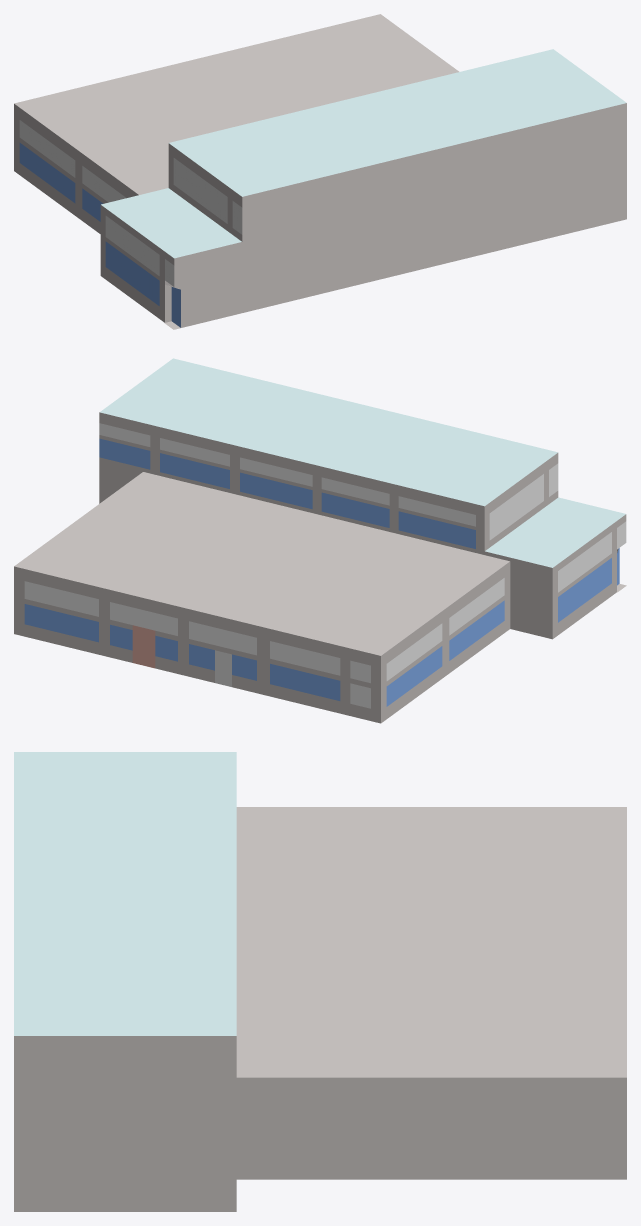
File: kentiku.glb
3 views of the same model, one above another, from view 1: azimuth 30°, elevation 25°; view 2: azimuth 150°, elevation 25°; view 3: azimuth 270°, elevation 25° (orthographic). The views are drawn at different scales.
Visible parts, largest first — view 1: 立方体.021, 立方体.003; view 2: 立方体.003, 立方体.021; view 3: 立方体.003, 立方体.021.
Part boxes in pixels (box(x1,y1,x2,y2)): 立方体.021: box(100, 49, 626, 329); 立方体.003: box(14, 14, 459, 233); 立方体.003: box(14, 472, 510, 723); 立方体.021: box(99, 358, 626, 639); 立方体.003: box(236, 807, 626, 1179); 立方体.021: box(14, 752, 236, 1211).
Bounding box in the file's own units: 10.9 × 2.67 × 8.44.
Materials: 1 (1 with a texture image).
